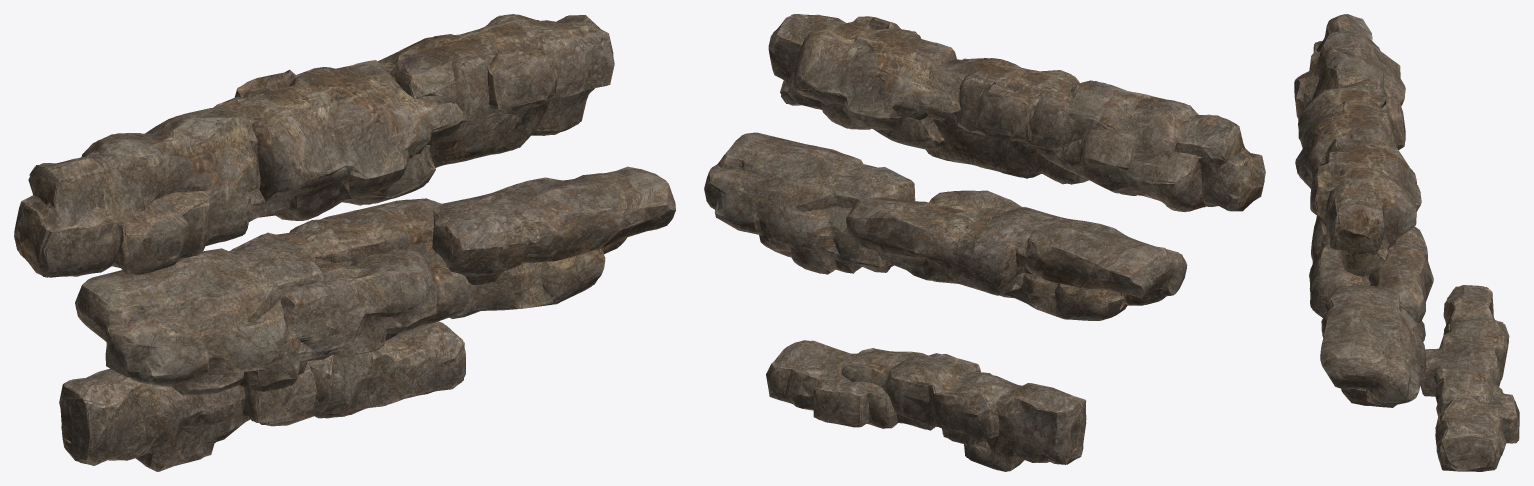
Rendered from Long_Rock_Ledges_A1.fbx.
The picture shows the model from 3 angles, left to right: view 1: azimuth 30°, elevation 25°; view 2: azimuth 150°, elevation 25°; view 3: azimuth 270°, elevation 25°; orthographic projection. The views are drawn at different scales.
Parts seen in each view (by area): view 1: Long_Rock_Ledge_B1, Long_Rock_Ledge_C1, Long_Rock_Ledge_B1.002, Long_Rock_Ledge_B1.001, Long_Rock_Ledge_C1.002, Long_Rock_Ledge_C1.001, Long_Rock_Ledge_A1, Long_Rock_Ledge_A1.002, Long_Rock_Ledge_A1.001; view 2: Long_Rock_Ledge_B1, Long_Rock_Ledge_C1, Long_Rock_Ledge_B1.002, Long_Rock_Ledge_C1.002, Long_Rock_Ledge_B1.001, Long_Rock_Ledge_C1.001, Long_Rock_Ledge_A1, Long_Rock_Ledge_A1.002, Long_Rock_Ledge_A1.001; view 3: Long_Rock_Ledge_B1, Long_Rock_Ledge_C1, Long_Rock_Ledge_B1.002, Long_Rock_Ledge_B1.001, Long_Rock_Ledge_A1, Long_Rock_Ledge_C1.002, Long_Rock_Ledge_C1.001, Long_Rock_Ledge_A1.002, Long_Rock_Ledge_A1.001.
Boxes of the visible parts, bbox=[...] form: Long_Rock_Ledge_B1: bbox=[14, 15, 613, 277]; Long_Rock_Ledge_C1: bbox=[75, 167, 675, 394]; Long_Rock_Ledge_B1.002: bbox=[14, 14, 614, 276]; Long_Rock_Ledge_B1.001: bbox=[14, 14, 613, 277]; Long_Rock_Ledge_C1.002: bbox=[75, 166, 675, 395]; Long_Rock_Ledge_C1.001: bbox=[75, 167, 675, 395]; Long_Rock_Ledge_A1: bbox=[59, 322, 465, 471]; Long_Rock_Ledge_A1.002: bbox=[60, 321, 464, 471]; Long_Rock_Ledge_A1.001: bbox=[59, 321, 465, 471]; Long_Rock_Ledge_B1: bbox=[768, 14, 1264, 211]; Long_Rock_Ledge_C1: bbox=[704, 132, 1186, 320]; Long_Rock_Ledge_B1.002: bbox=[768, 14, 1265, 211]; Long_Rock_Ledge_C1.002: bbox=[704, 132, 1184, 320]; Long_Rock_Ledge_B1.001: bbox=[768, 14, 1264, 211]; Long_Rock_Ledge_C1.001: bbox=[704, 134, 1187, 320]; Long_Rock_Ledge_A1: bbox=[767, 340, 1086, 471]; Long_Rock_Ledge_A1.002: bbox=[766, 340, 1085, 470]; Long_Rock_Ledge_A1.001: bbox=[768, 341, 1086, 471]; Long_Rock_Ledge_B1: bbox=[1294, 15, 1421, 276]; Long_Rock_Ledge_C1: bbox=[1309, 168, 1433, 407]; Long_Rock_Ledge_B1.002: bbox=[1294, 14, 1421, 276]; Long_Rock_Ledge_B1.001: bbox=[1294, 14, 1420, 276]; Long_Rock_Ledge_A1: bbox=[1420, 285, 1519, 471]; Long_Rock_Ledge_C1.002: bbox=[1309, 170, 1433, 407]; Long_Rock_Ledge_C1.001: bbox=[1309, 168, 1433, 406]; Long_Rock_Ledge_A1.002: bbox=[1420, 286, 1518, 471]; Long_Rock_Ledge_A1.001: bbox=[1422, 285, 1519, 471].
Size of the model in its own units: 7020 by 4376 by 2834.
